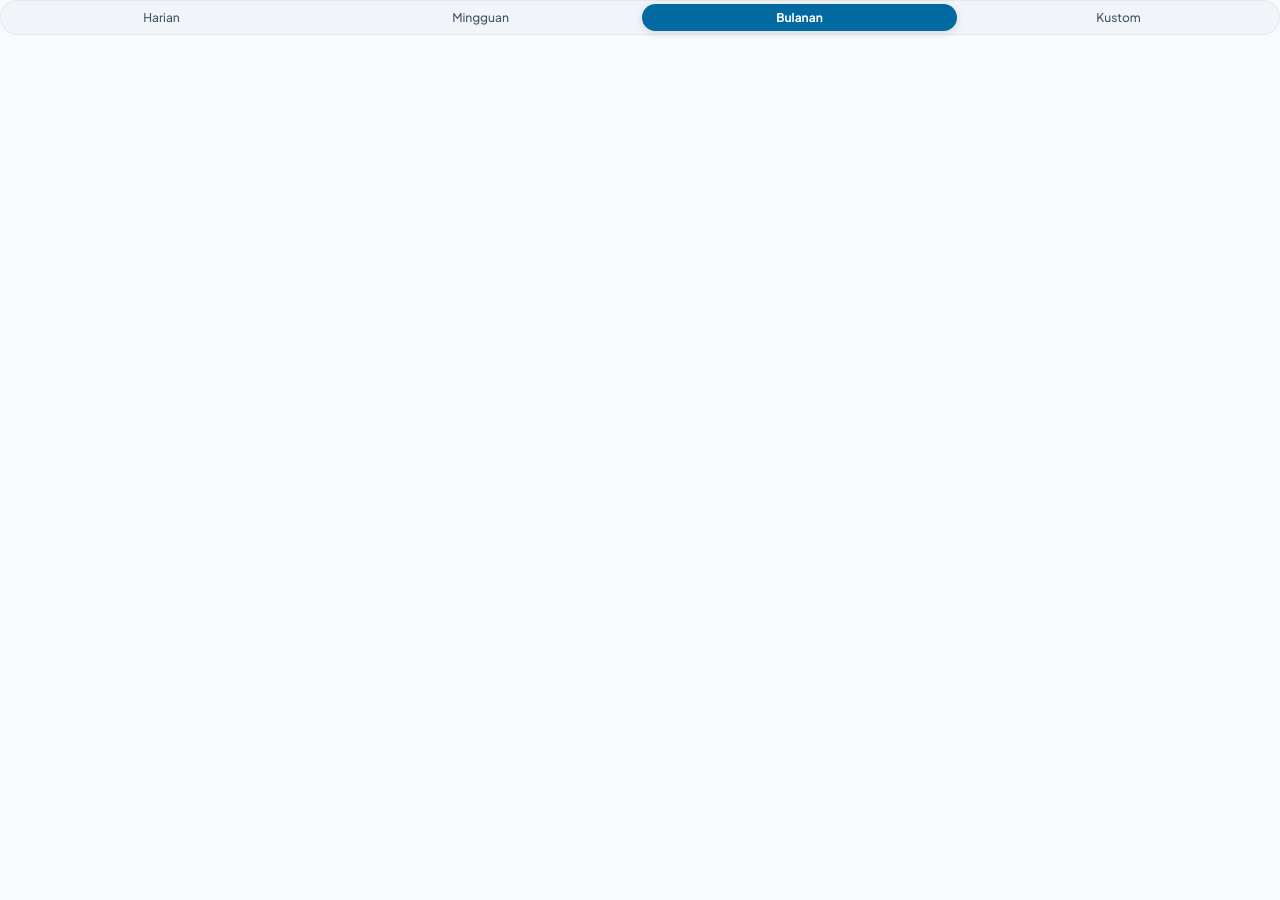
MonitoringPeriodSelector Component › opens MonthPickerModal when monthly capsule is tapped while already in monthly mode
Click the button with test id "period-btn-monthly" at (800, 18), box x1=642 y1=4 x2=957 y2=31
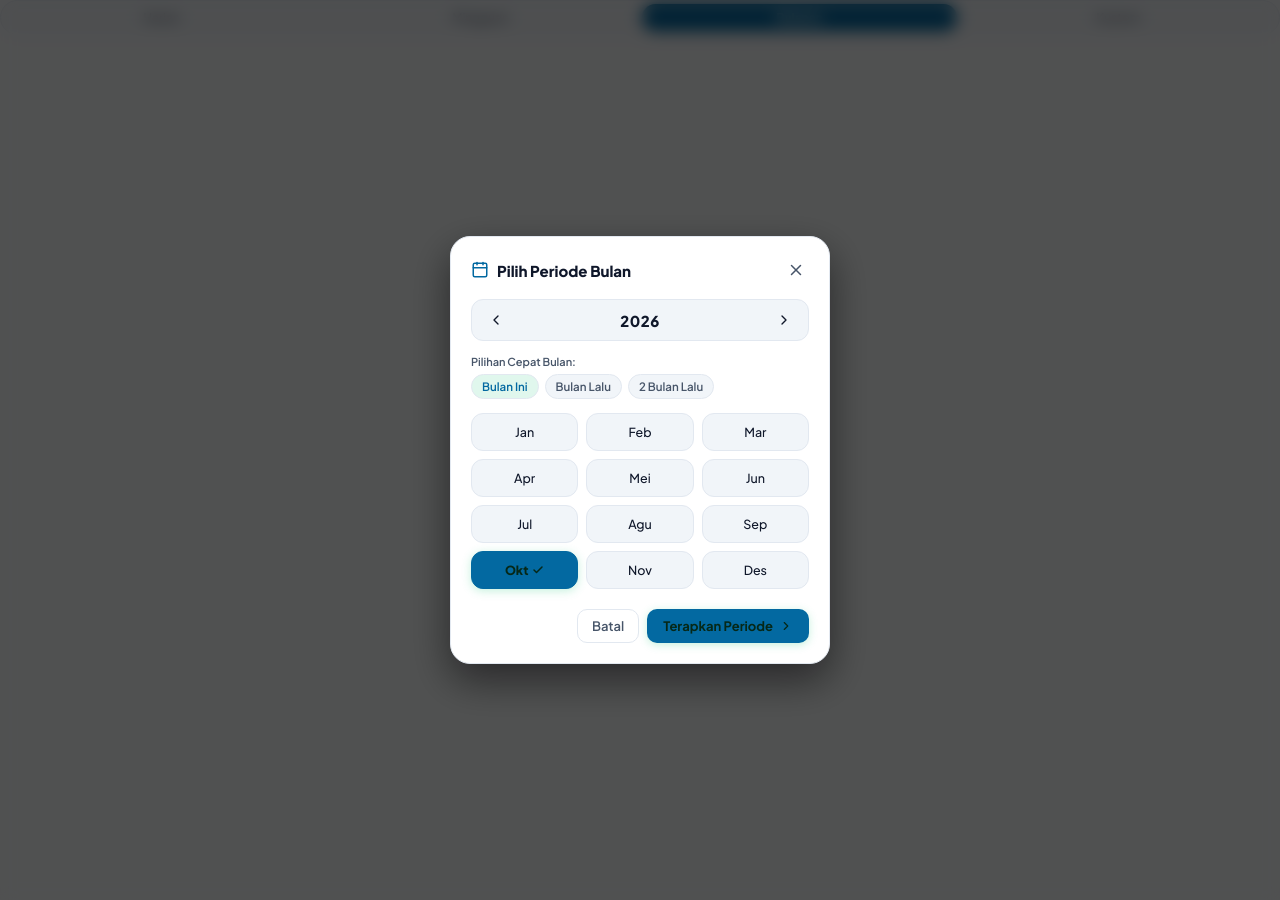
Expected: the dialog with test id "month-picker-modal" is shown
Expected: the dialog with test id "month-picker-modal" shows "Pilih Periode Bulan", x1=497 y1=260 x2=631 y2=280
